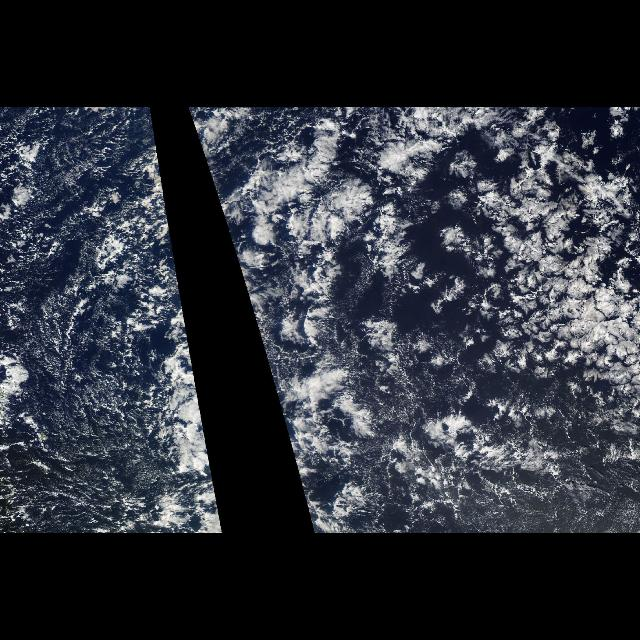Fish: (255, 120, 407, 454)
Flower: (423, 126, 639, 400)
Gravel: (34, 319, 164, 507)
Sugar: (10, 114, 218, 530), (452, 457, 636, 529), (188, 114, 218, 202)
